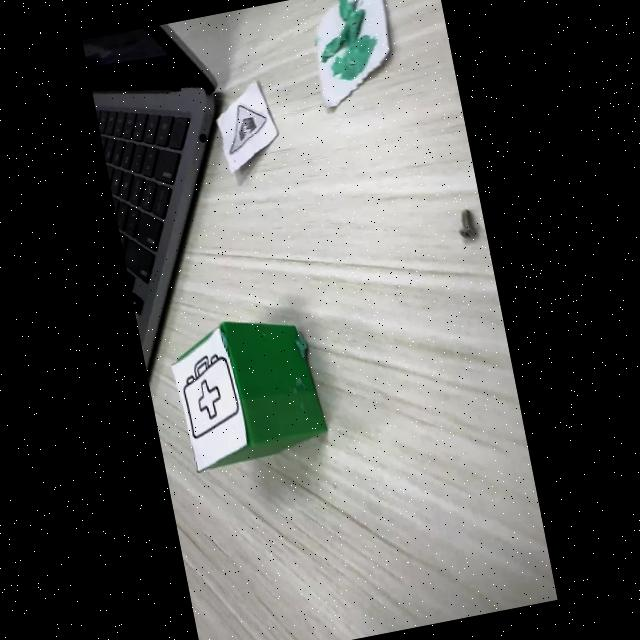Medkit: (183, 350, 240, 439)
